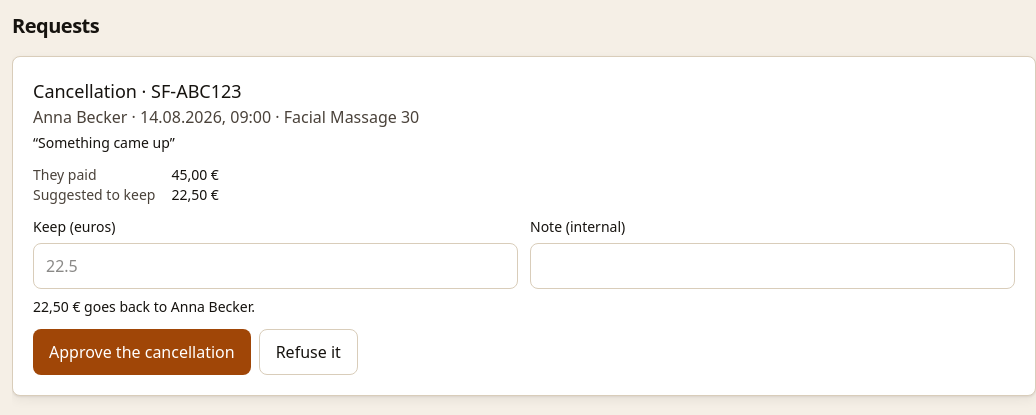
it: RequestsPage › rejects a retained amount above the paid amount client-side
This screenshot has width=1036, height=415.
Type "50.00" into the field with test id "retained". click: x=276, y=266
box: [33, 243, 518, 289]
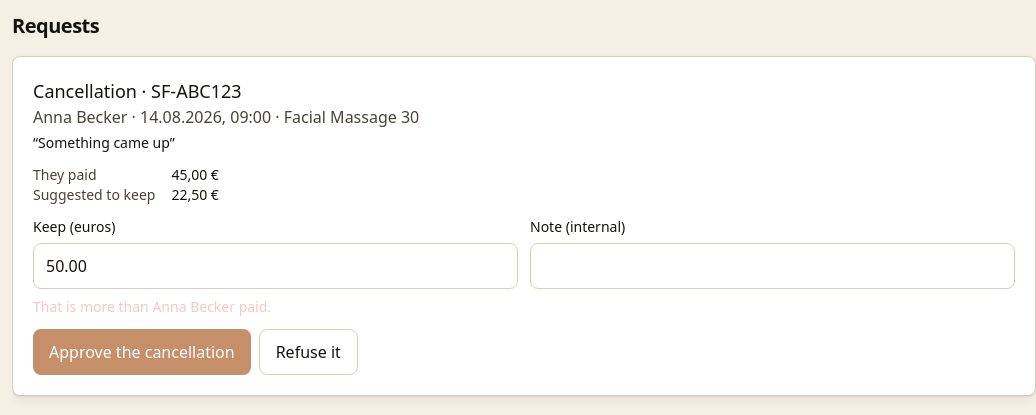
Expected: the button with test id "approve" is disabled, [33, 329, 251, 375]
Expected: the text with test id "refund-preview" shows "more than", [33, 297, 271, 316]
